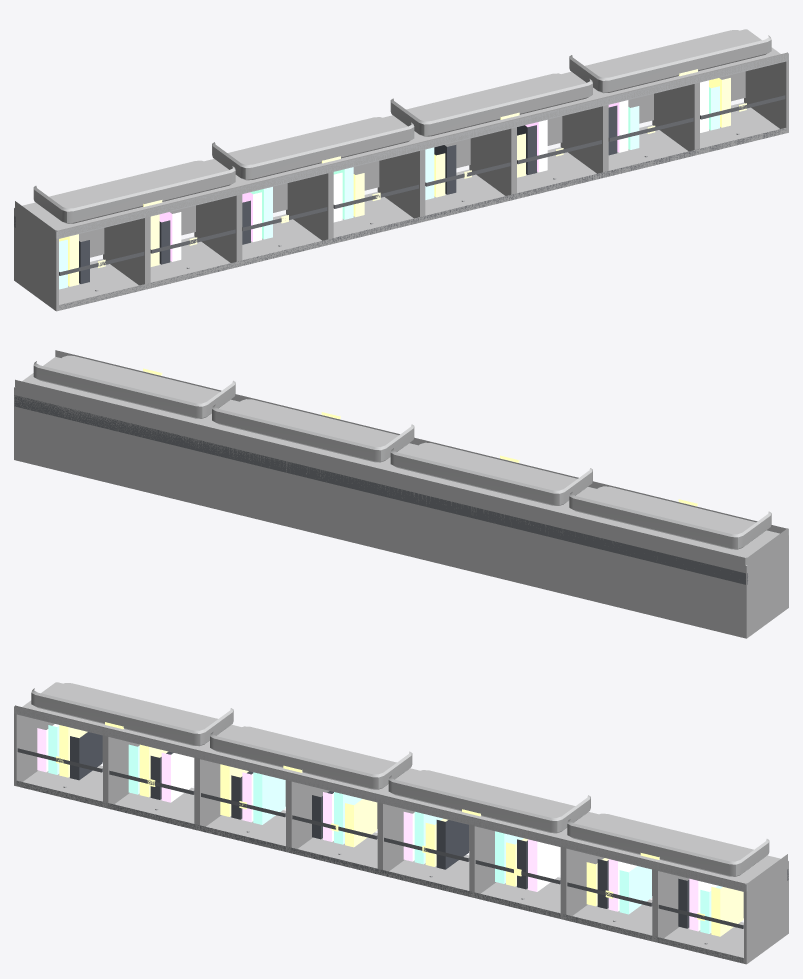
Rendered from reading_bench_book_cubbies.glb.
The picture shows the model from 3 angles, top to bottom: view 1: azimuth 30°, elevation 25°; view 2: azimuth 150°, elevation 25°; view 3: azimuth 330°, elevation 25°; orthographic projection.
Visible parts, largest first — view 1: Cushions, Cubby_Dividers, Cubby_Floor, Seat_Slab, Seat_Nosing, Cubby_Back, Books_0, Retainer_Bars, Books_1, Books_2, Books_3, Toe_Strip; view 2: Cubby_Back, Cushions, Seat_Slab, Wall_Rail, Cubby_Dividers, Cubby_Floor, Seat_Nosing; view 3: Cushions, Cubby_Dividers, Cubby_Floor, Seat_Slab, Books_0, Books_1, Seat_Nosing, Books_2, Books_3, Toe_Strip, Retainer_Bars.
Part boxes in pixels (x1,y1,x2,y2): Cushions: (33,30,771,223); Cubby_Dividers: (14,60,788,311); Cubby_Floor: (14,102,788,310); Seat_Slab: (15,29,787,237); Seat_Nosing: (55,53,788,238); Cubby_Back: (14,71,745,275); Books_0: (159,80,708,261); Retainer_Bars: (59,95,785,275); Books_1: (59,86,719,289); Books_2: (59,78,730,286); Books_3: (79,105,617,283); Toe_Strip: (60,129,785,309); Cubby_Back: (14,387,746,632); Cushions: (33,355,771,549); Seat_Slab: (15,357,787,565); Wall_Rail: (14,395,747,584); Cubby_Dividers: (14,387,788,638); Cubby_Floor: (16,455,788,637); Seat_Nosing: (55,350,788,535); Cushions: (31,683,769,876); Cubby_Dividers: (14,713,788,964); Cubby_Floor: (14,765,788,963); Seat_Slab: (15,682,787,890); Books_0: (37,724,717,931); Books_1: (48,725,722,933); Seat_Nosing: (14,706,747,891); Books_2: (59,725,743,936); Books_3: (70,732,689,928); Toe_Strip: (16,781,743,963); Retainer_Bars: (17,748,743,928).
Size of the model in its own units: 4 by 0.5 by 0.4.
